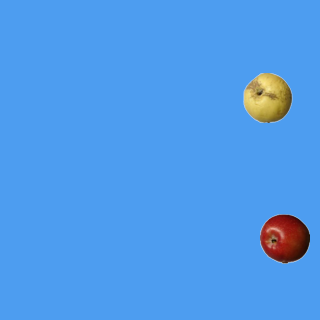Apple Braeburn: (259, 213, 309, 263)
Apple Golden 1: (242, 72, 292, 122)
